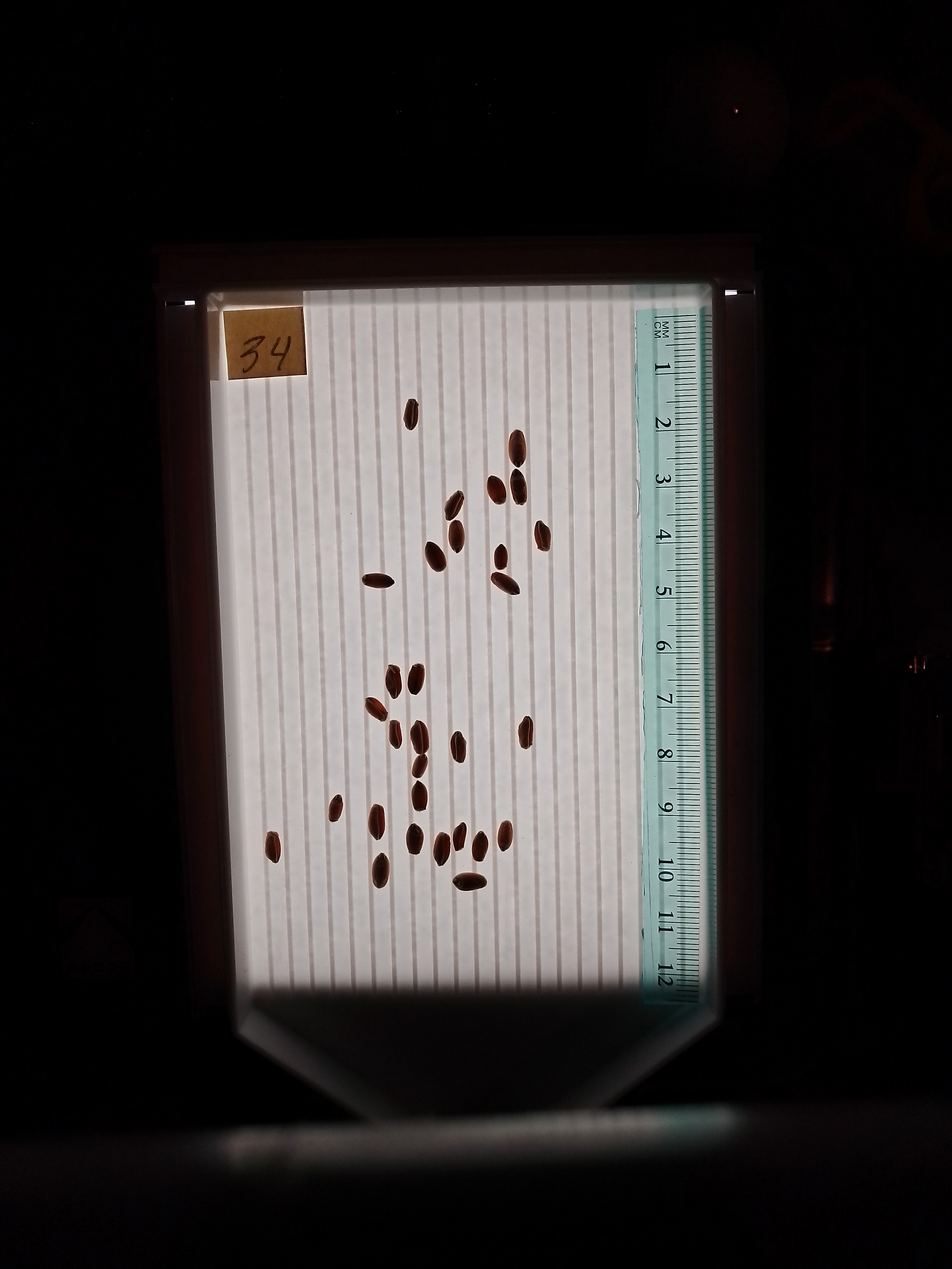seed mask: (508, 430, 527, 467), (491, 573, 520, 595), (510, 470, 528, 505), (425, 542, 446, 572), (368, 804, 386, 839), (372, 853, 390, 888), (410, 721, 429, 754), (454, 873, 486, 892), (517, 716, 535, 749), (445, 491, 464, 521), (448, 520, 465, 553), (362, 572, 393, 590), (264, 832, 282, 863), (365, 697, 387, 722), (433, 834, 450, 866), (534, 521, 552, 551), (487, 477, 506, 505), (403, 399, 420, 430), (450, 732, 467, 763), (408, 664, 425, 694), (407, 824, 424, 854), (472, 832, 489, 862), (411, 783, 428, 812), (386, 665, 401, 697), (497, 821, 513, 851), (328, 795, 343, 822), (493, 545, 508, 571), (453, 824, 467, 851), (389, 721, 402, 748), (413, 755, 427, 778)
